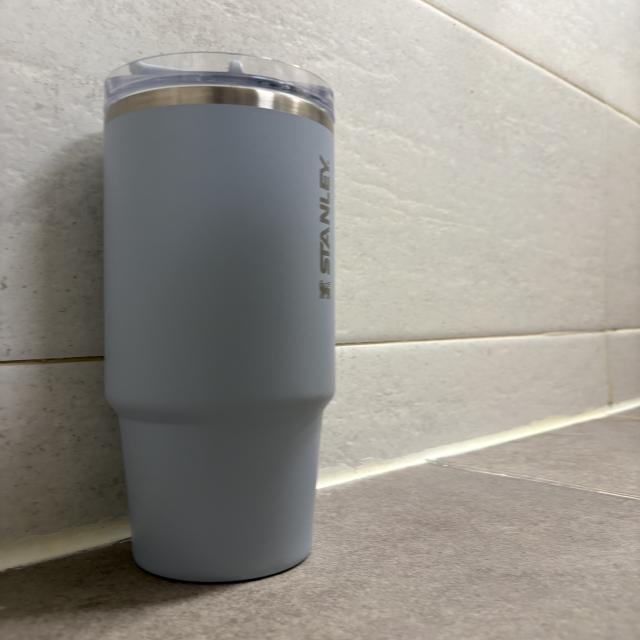waterbottle: (106, 50, 335, 585)
